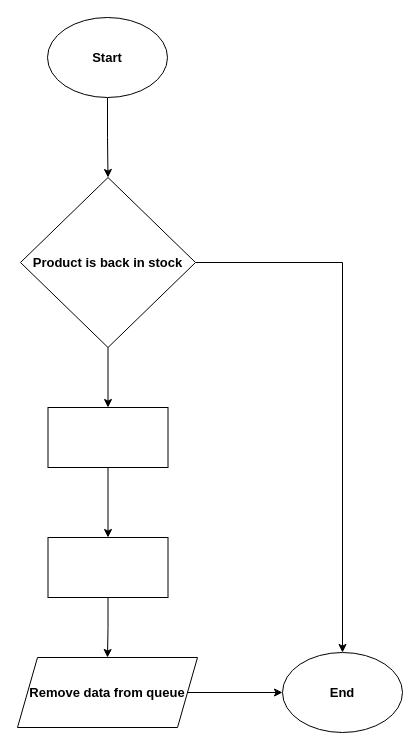
This 420x750 diagram has some shape labels left out. The centre of each missing label's shape, as x and y in pixels:
"Inform customers" belongs at (x=107, y=567).
"Process queue" belongs at (x=107, y=437).
